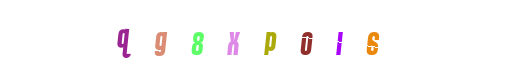0: (266, 0, 346, 80)
6: (299, 0, 379, 80)
8: (163, 0, 243, 80)
G: (157, 0, 237, 80)
L: (283, 0, 363, 80)
P: (215, 0, 295, 80)
Q: (83, 0, 163, 80)
X: (187, 0, 267, 80)
